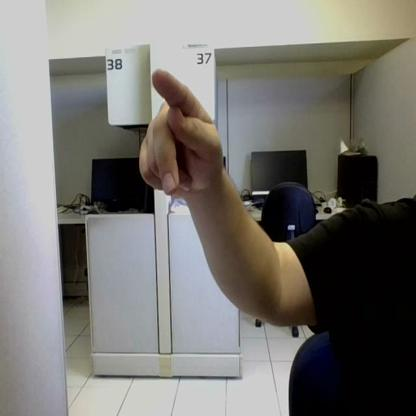P: (140, 68, 222, 197)
